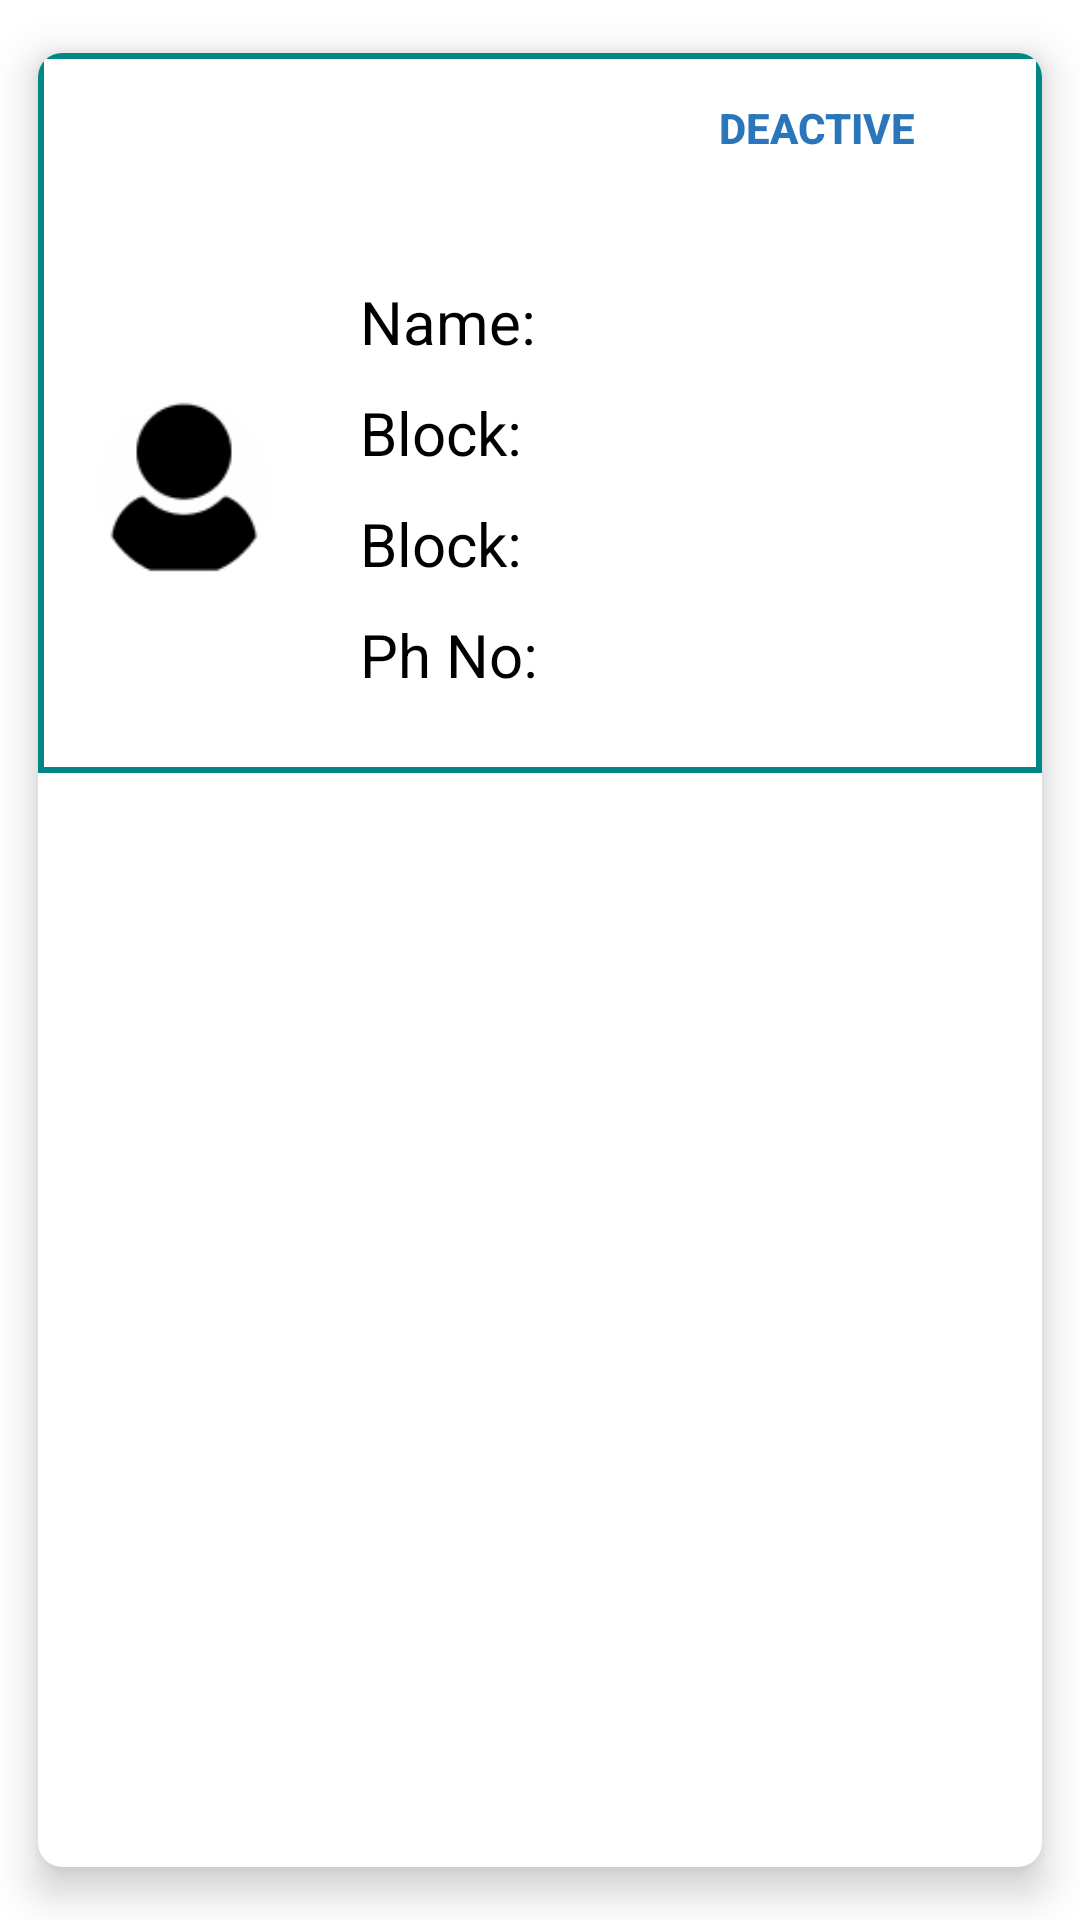

Where icons sit on this 1080×1920 app screen, as (x1, y1, x2, y2):
employee: (110, 403, 258, 572)
